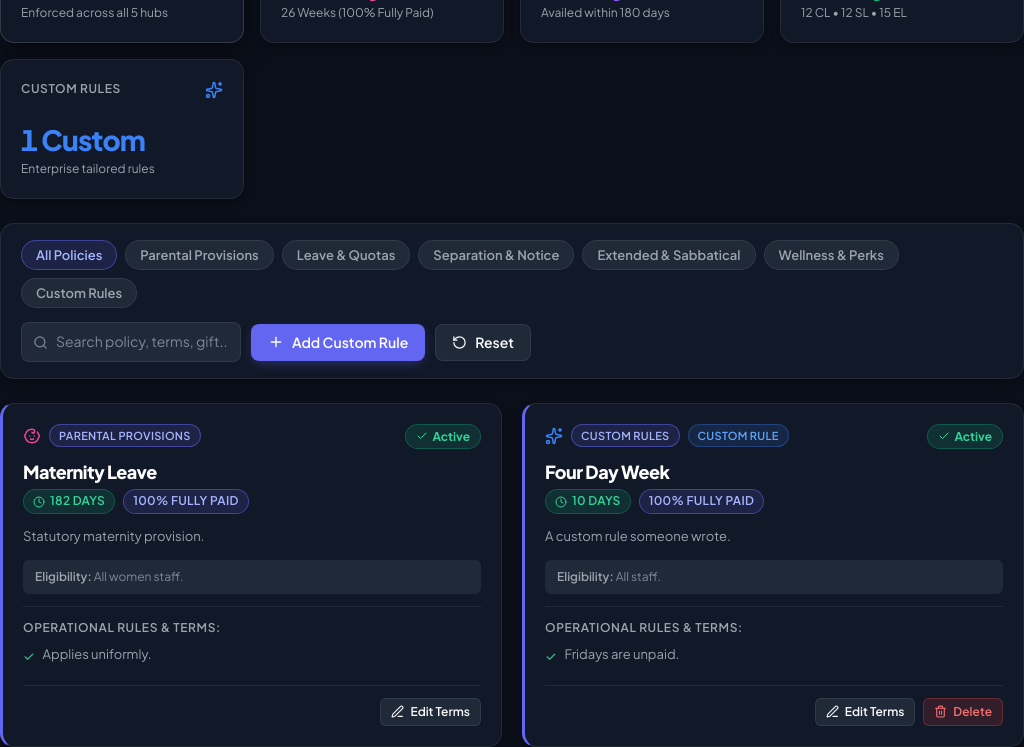
Test case: PolicySection destructive actions › names the policy being deleted, so the answer is about that policy and not "something"
(page scrolled)
Click the button "Delete". click: x=963, y=712
box: [923, 698, 1003, 726]
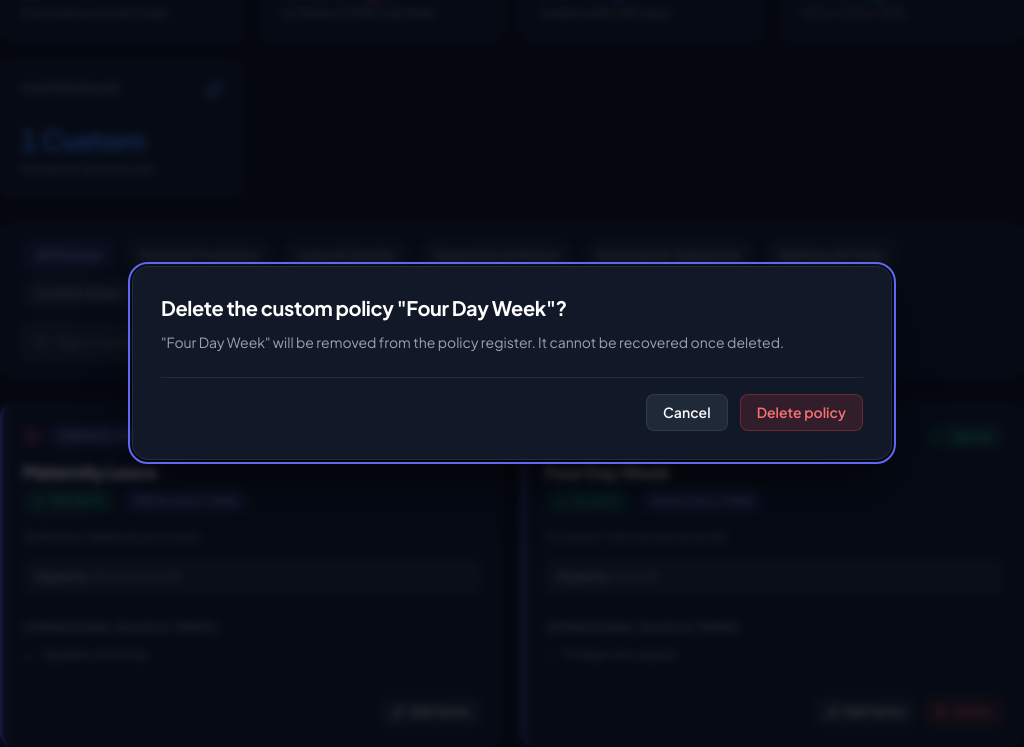
Result: the dialog shows "cannot be recovered once deleted" at [161, 333, 784, 351]
